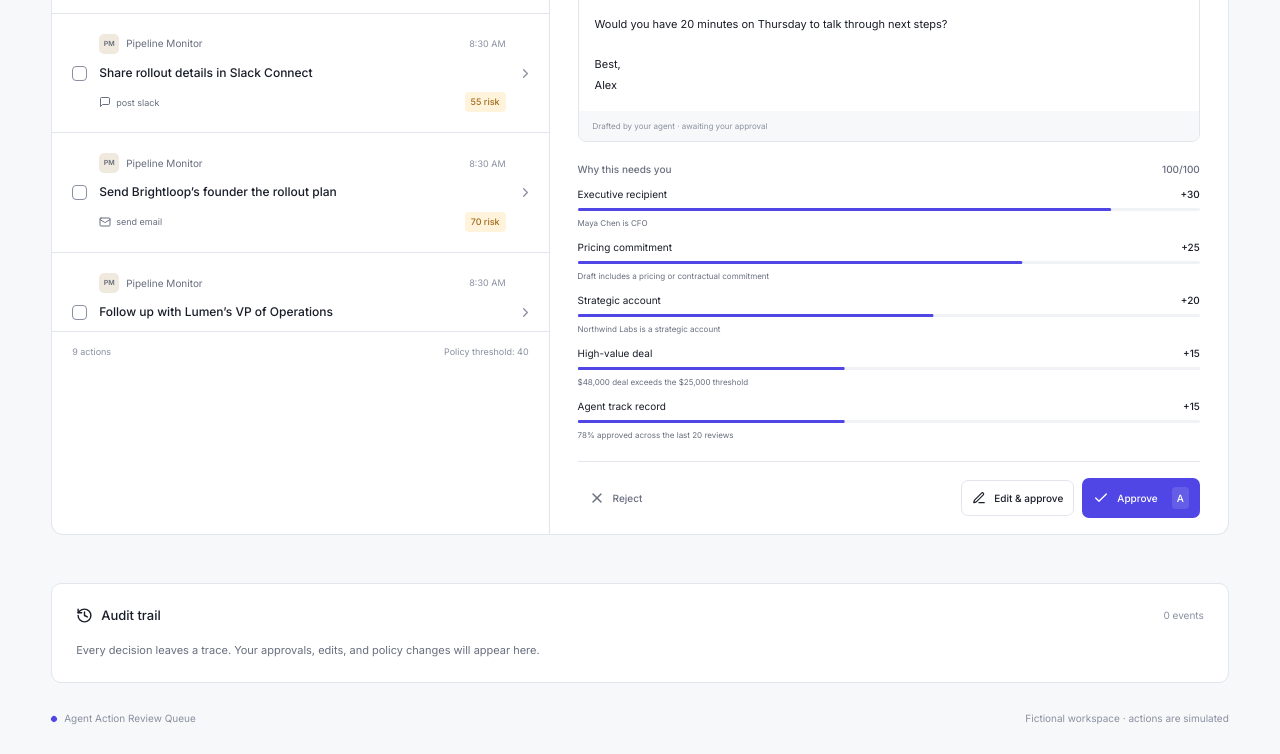
Test: renders 68% and approval moves an action to Decided with audit
This screenshot has width=1280, height=754.
(page scrolled)
Click the button with aria-label "Approve action".
click(1141, 498)  # box x1=1082 y1=478 x2=1200 y2=518
(page scrolled)
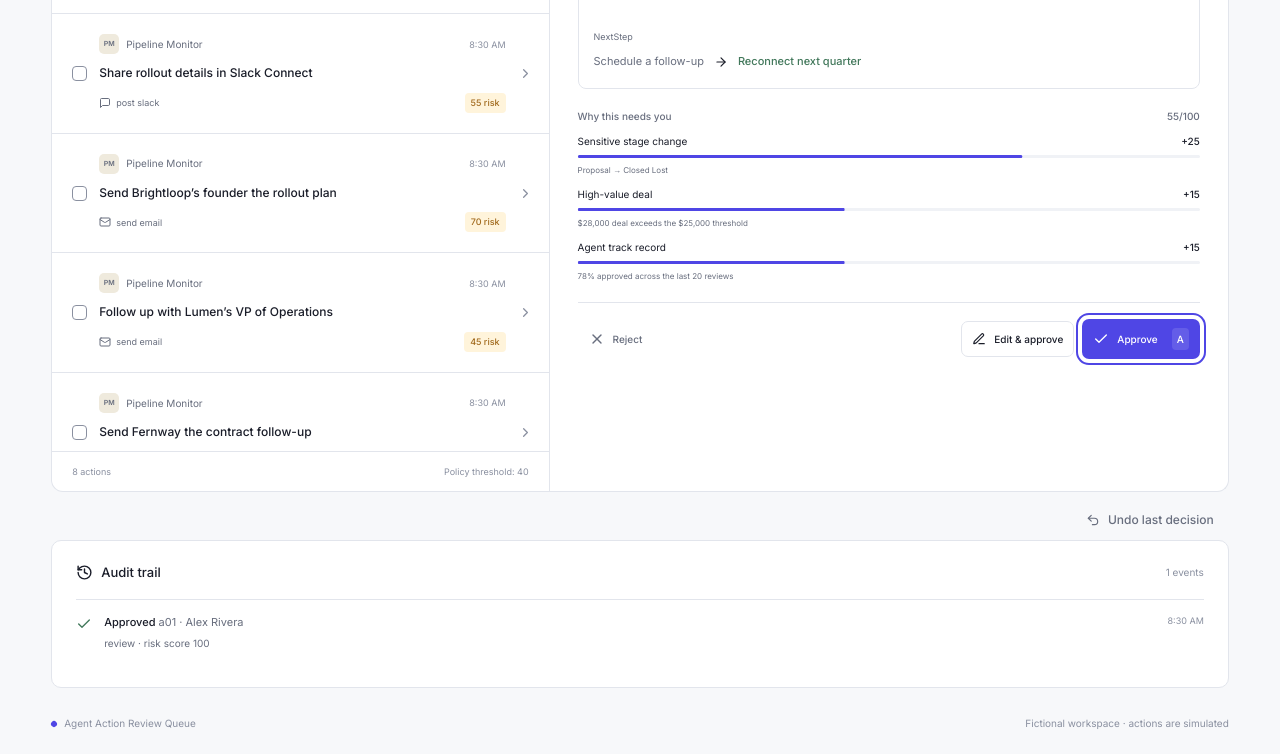
Expected: the element with test id "audit" shows "Approved", x1=104 y1=614 x2=156 y2=628
